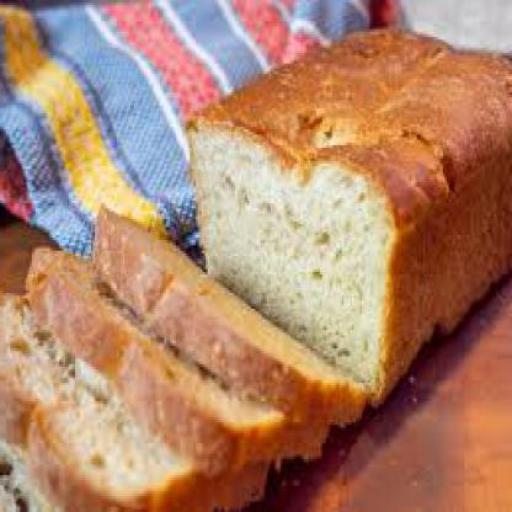biodegradable: (186, 21, 511, 402), (26, 241, 332, 472), (94, 203, 370, 422), (2, 290, 271, 510)
